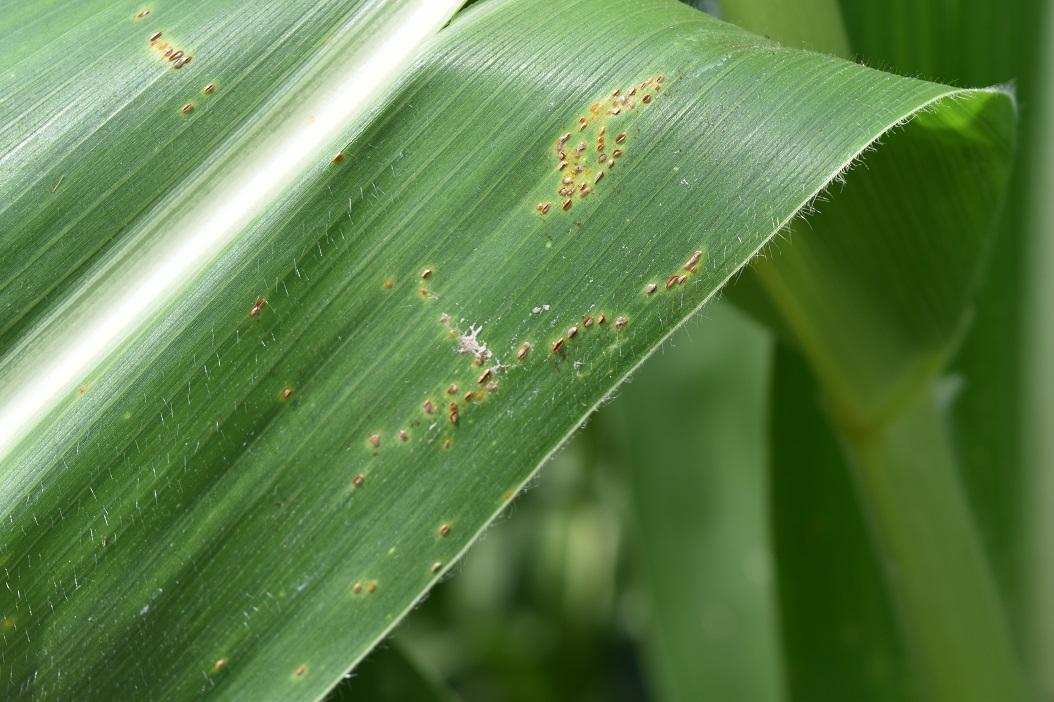Corn rust leaf: (1, 8, 1016, 701)
